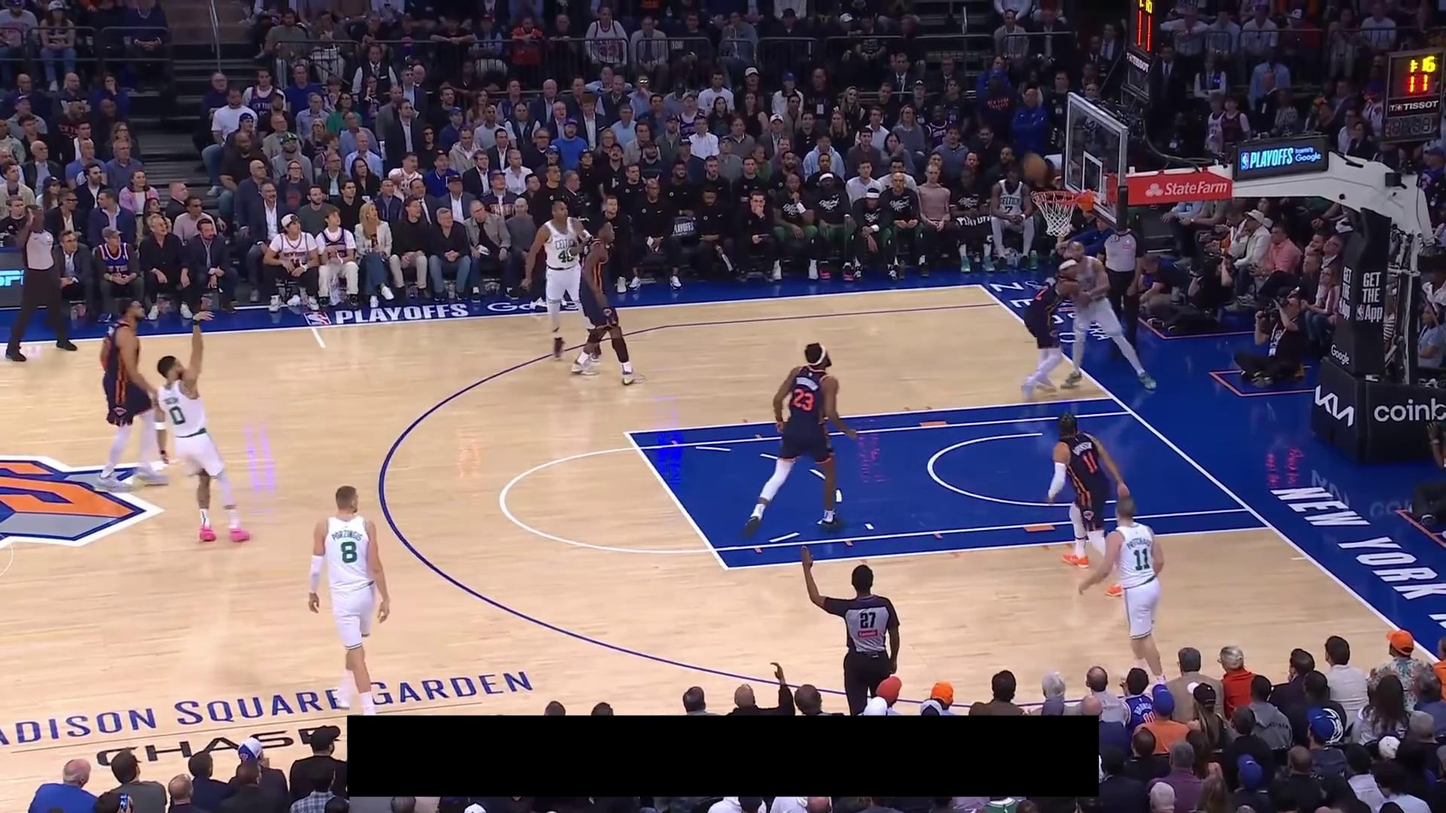ball: (1023, 153, 1048, 181)
number: (792, 388, 814, 411), (340, 540, 358, 564), (1133, 547, 1150, 571), (1081, 451, 1099, 473), (168, 405, 186, 426), (1034, 284, 1049, 301), (557, 248, 572, 264)
player: (741, 340, 860, 543), (151, 312, 253, 544), (307, 483, 393, 714), (1076, 493, 1173, 697), (1045, 407, 1132, 597), (1059, 230, 1158, 395), (94, 296, 172, 493), (520, 197, 606, 361), (570, 218, 647, 386), (1017, 254, 1092, 403)
referee: (801, 544, 900, 714), (3, 203, 80, 363), (1098, 215, 1147, 362)
rim: (1031, 190, 1079, 204)
